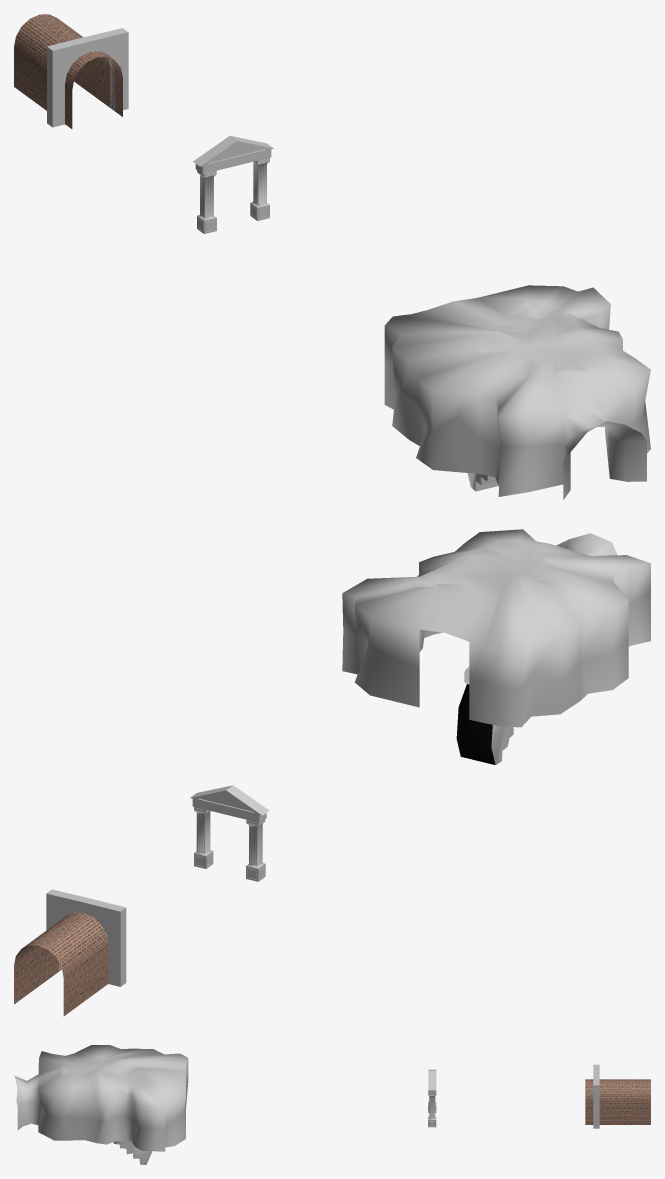
File: cellar-stairs-underground.fbx
The picture shows the model from 3 angles, top to bottom: view 1: azimuth 30°, elevation 25°; view 2: azimuth 150°, elevation 25°; view 3: azimuth 270°, elevation 25°; orthographic projection. The views are drawn at different scales.
Parts seen in each view (by area): view 1: main-chamber-cellar, tunnel-cellar, roman-arch-cellar, tunnel-cellar.001; view 2: main-chamber-cellar, tunnel-cellar, roman-arch-cellar, tunnel-cellar.001, stairs-cellar-underground; view 3: main-chamber-cellar, tunnel-cellar, roman-arch-cellar, tunnel-cellar.001, stairs-cellar-underground.
Part boxes in pixels (x1,y1,x2,y2): main-chamber-cellar: [384, 285, 650, 499]; tunnel-cellar: [14, 14, 122, 128]; roman-arch-cellar: [193, 135, 273, 233]; tunnel-cellar.001: [47, 28, 128, 127]; main-chamber-cellar: [342, 529, 650, 727]; tunnel-cellar: [14, 912, 108, 1016]; roman-arch-cellar: [190, 785, 269, 881]; tunnel-cellar.001: [46, 889, 126, 986]; stairs-cellar-underground: [456, 666, 513, 764]; main-chamber-cellar: [14, 1045, 188, 1151]; tunnel-cellar: [585, 1079, 650, 1124]; roman-arch-cellar: [428, 1069, 436, 1127]; tunnel-cellar.001: [593, 1064, 599, 1128]; stairs-cellar-underground: [113, 1140, 151, 1164].
Bounding box in the file's own units: 896 × 3878 × 651.
